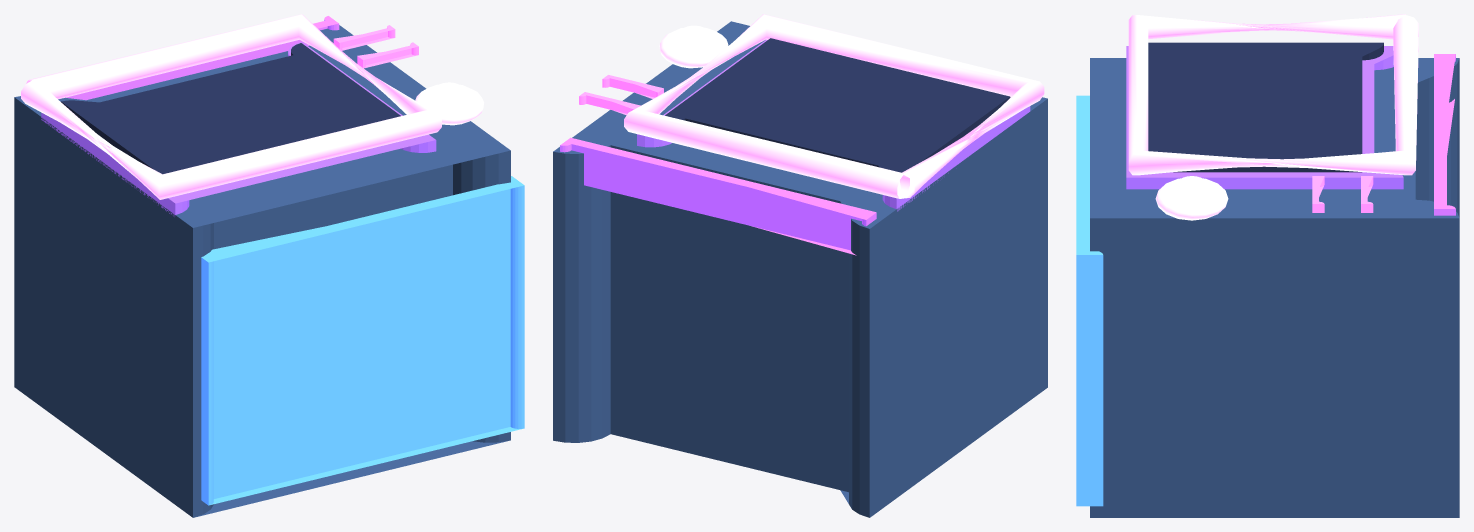
The model's file is SpalakhConsoleNeon_v094.glb.
The picture shows the model from 3 angles, left to right: view 1: azimuth 30°, elevation 25°; view 2: azimuth 150°, elevation 25°; view 3: azimuth 270°, elevation 25°; orthographic projection. The views are drawn at different scales.
Size of the model in its own units: 0.8716 by 0.768 by 0.7875.
